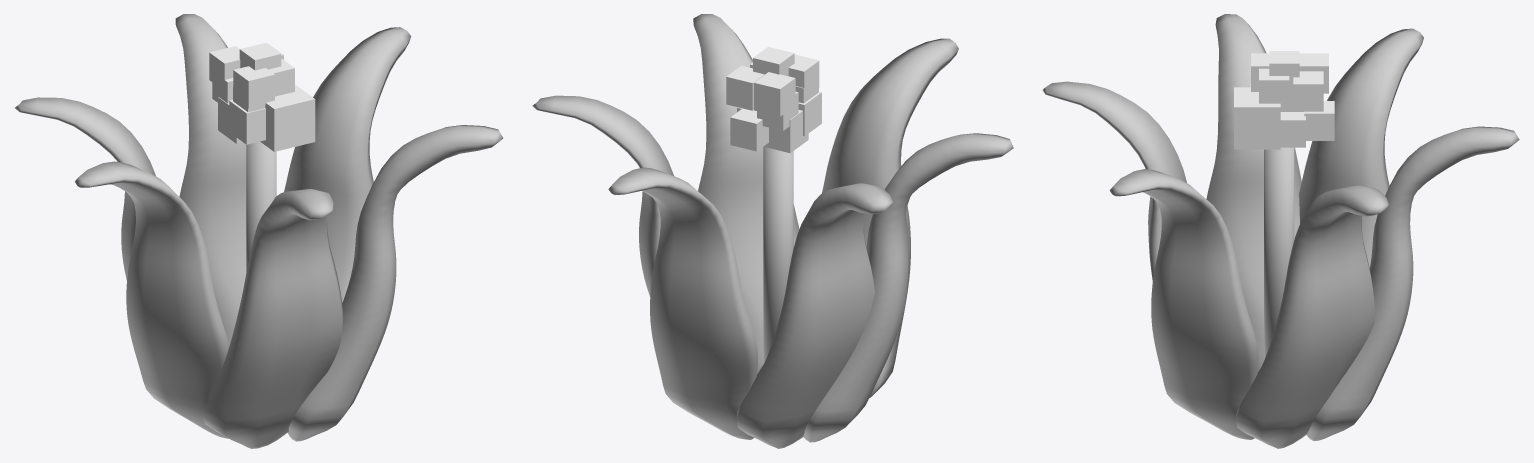
Rendered from AlienPlant.obj.
The picture shows the model from 3 angles, left to right: view 1: azimuth 30°, elevation 25°; view 2: azimuth 150°, elevation 25°; view 3: azimuth 270°, elevation 25°; orthographic projection.
Visible parts, largest first — view 1: flower_2; view 2: flower_2; view 3: flower_2.
Boxes of the visible parts, box(x1,y1,x2,y2) form: flower_2: box(15, 14, 503, 448); flower_2: box(532, 14, 1013, 448); flower_2: box(1042, 14, 1519, 448).
Bounding box in the file's own units: 3.79 × 3.37 × 3.89.
